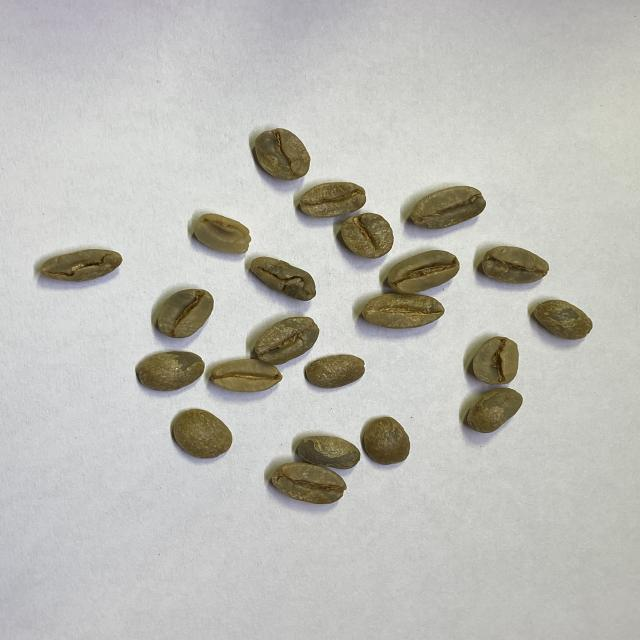bad: (271, 462, 347, 505), (386, 250, 459, 294), (250, 256, 316, 301), (40, 248, 123, 283), (193, 213, 252, 254)
good: (409, 185, 486, 230), (254, 316, 320, 366), (171, 409, 232, 460), (156, 288, 214, 339), (362, 293, 444, 329), (134, 350, 205, 391), (254, 128, 310, 179), (462, 387, 524, 432), (481, 246, 549, 285), (210, 359, 282, 394), (534, 298, 592, 341), (340, 212, 394, 258), (362, 416, 411, 466), (298, 182, 366, 216), (472, 336, 520, 384), (305, 354, 367, 390), (297, 436, 360, 470)
